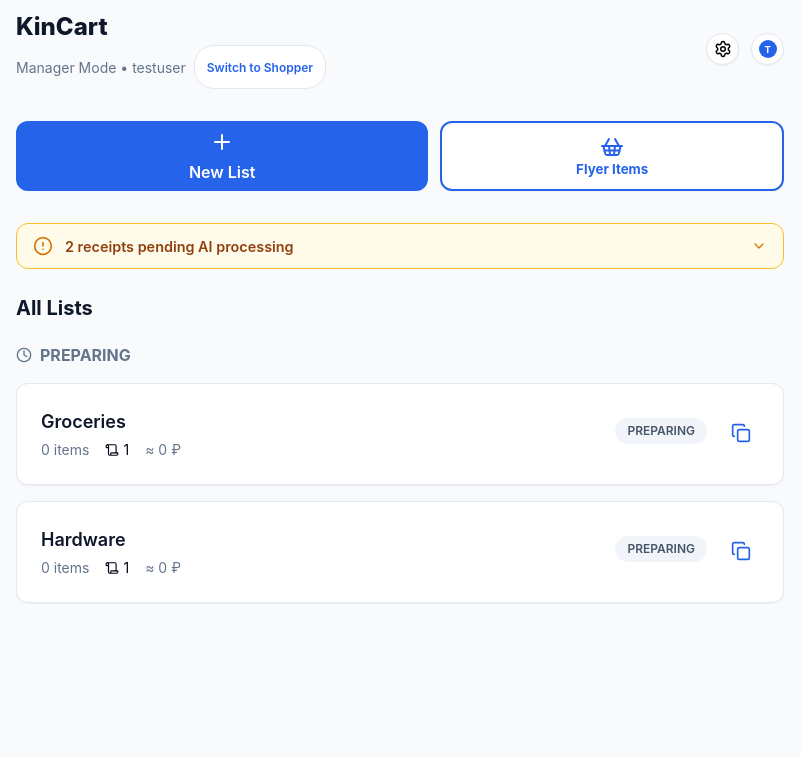
Test: Dashboard › expands pending receipts panel on click and shows list names
What coordinates should you click on to do the following:
click the button with test id "pending-receipts-banner"
I would click on:
 (100, 246)
Its box is [17,224,783,268].
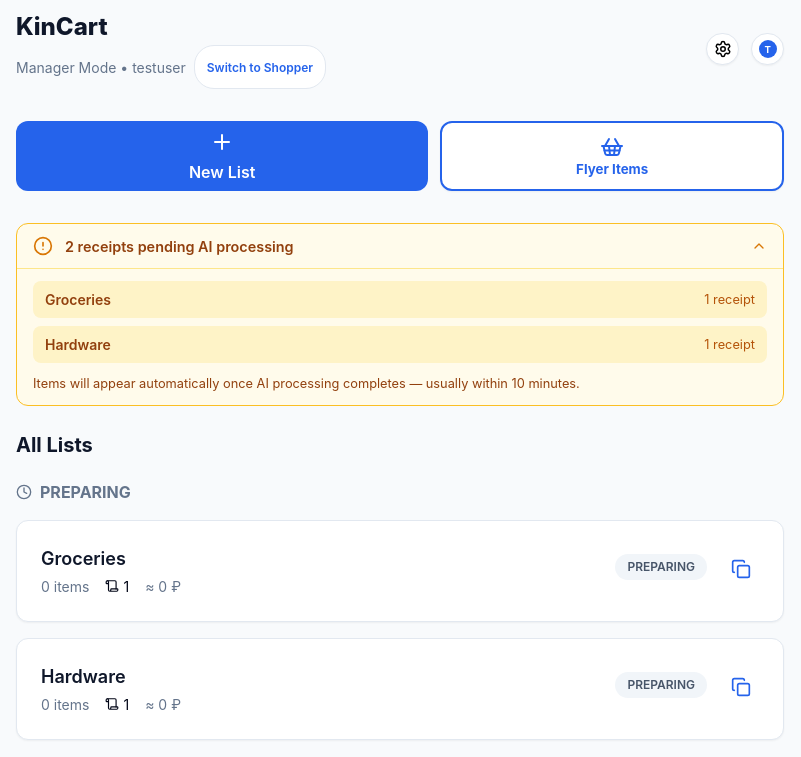
expect the text "Items will appear automatically" is shown: met, box [33,376,580,391]
